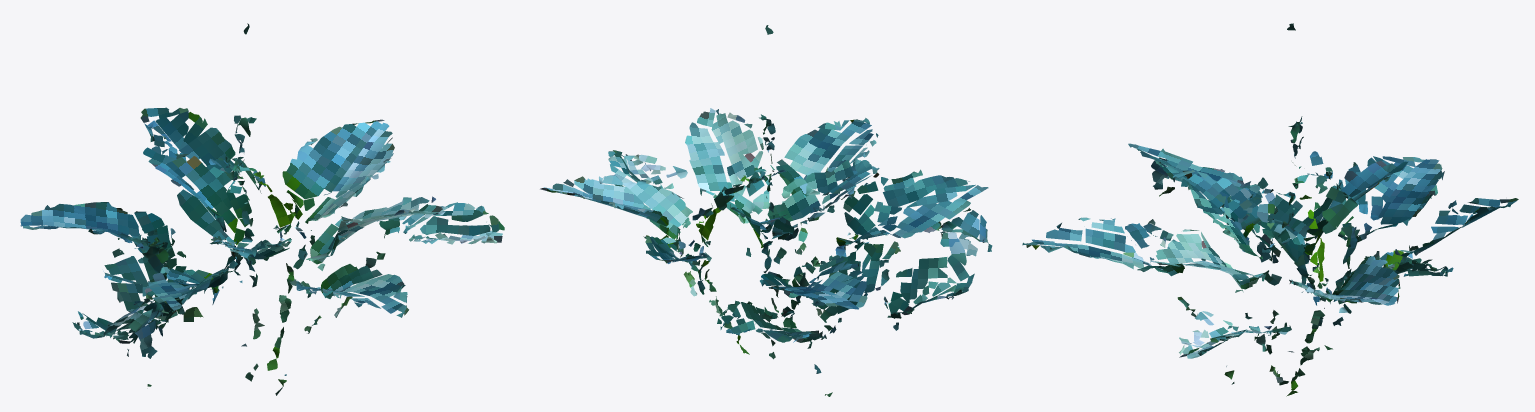
Rendered from hosta2.obj.
3 renders of one model, left to right at view 1: azimuth 30°, elevation 25°; view 2: azimuth 150°, elevation 25°; view 3: azimuth 270°, elevation 25°, orthographic. The views are drawn at different scales.
Bounding box in the file's own units: 3.6 × 3.14 × 3.75.
1 material, 1 textured.
